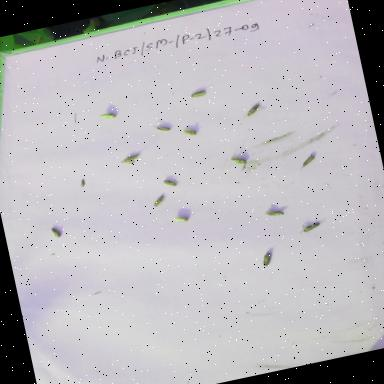pbw: (241, 97, 265, 123), (254, 246, 278, 270), (293, 150, 319, 170), (96, 106, 122, 125), (44, 222, 68, 242), (262, 204, 286, 222), (168, 210, 190, 228), (298, 220, 325, 234), (120, 148, 142, 164), (150, 120, 173, 134), (228, 150, 248, 166), (119, 154, 141, 168), (187, 87, 207, 99), (152, 193, 168, 207), (180, 126, 198, 138), (160, 176, 176, 188)
